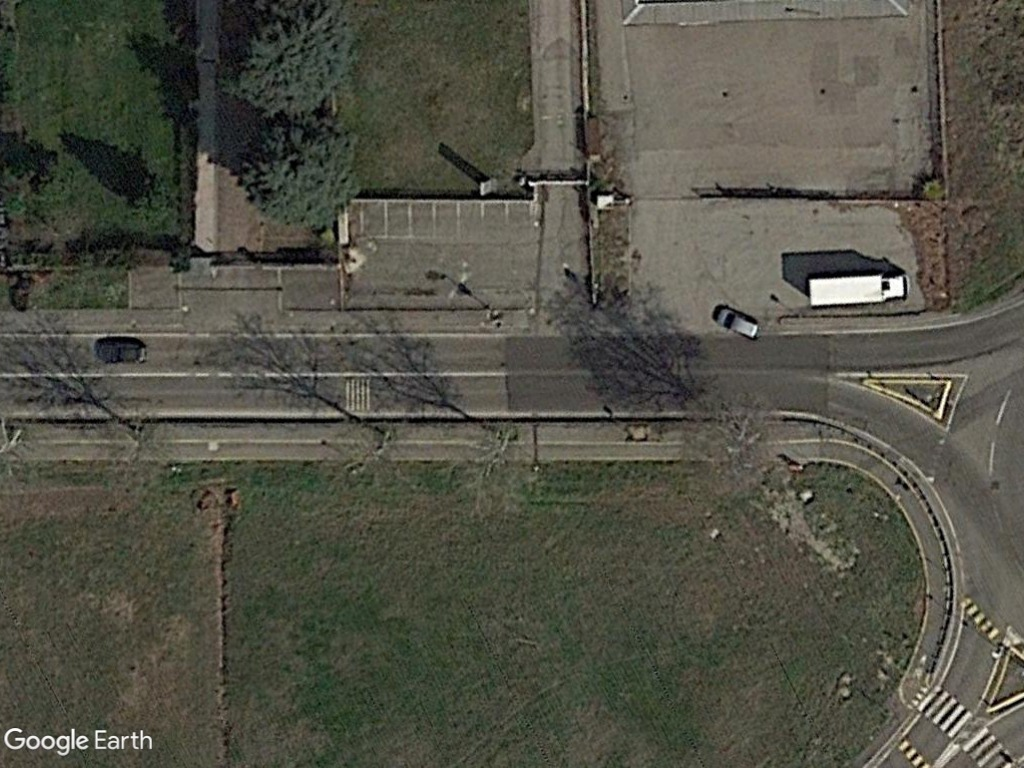car: (710, 300, 763, 343)
truck: (802, 268, 912, 315)
